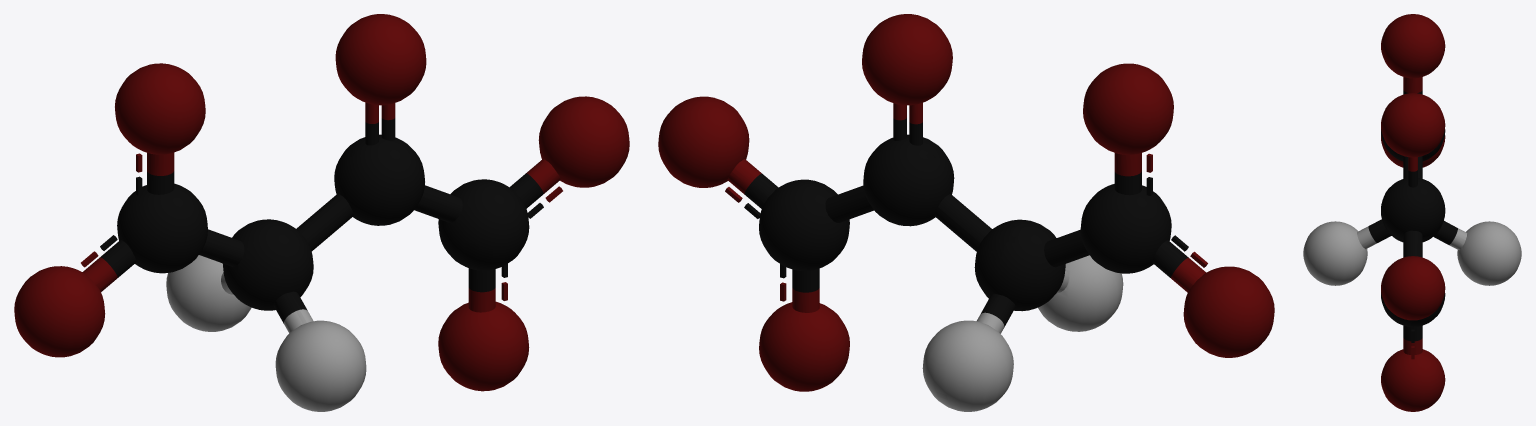
The model's file is oxaloacetate.glb.
3 views of the same model, side by side, from view 1: azimuth 30°, elevation 25°; view 2: azimuth 150°, elevation 25°; view 3: azimuth 270°, elevation 25° (orthographic). The views are drawn at different scales.
Visible parts, largest first — view 1: Oxaloacetate2_group2_pCube11; view 2: Oxaloacetate2_group2_pCube11; view 3: Oxaloacetate2_group2_pCube11.
Boxes of the visible parts, bbox=[...] form: Oxaloacetate2_group2_pCube11: bbox=[14, 14, 629, 411]; Oxaloacetate2_group2_pCube11: bbox=[658, 14, 1274, 411]; Oxaloacetate2_group2_pCube11: bbox=[1303, 14, 1521, 411].
Size of the model in its own units: 1.52 by 0.961 by 0.6779.
